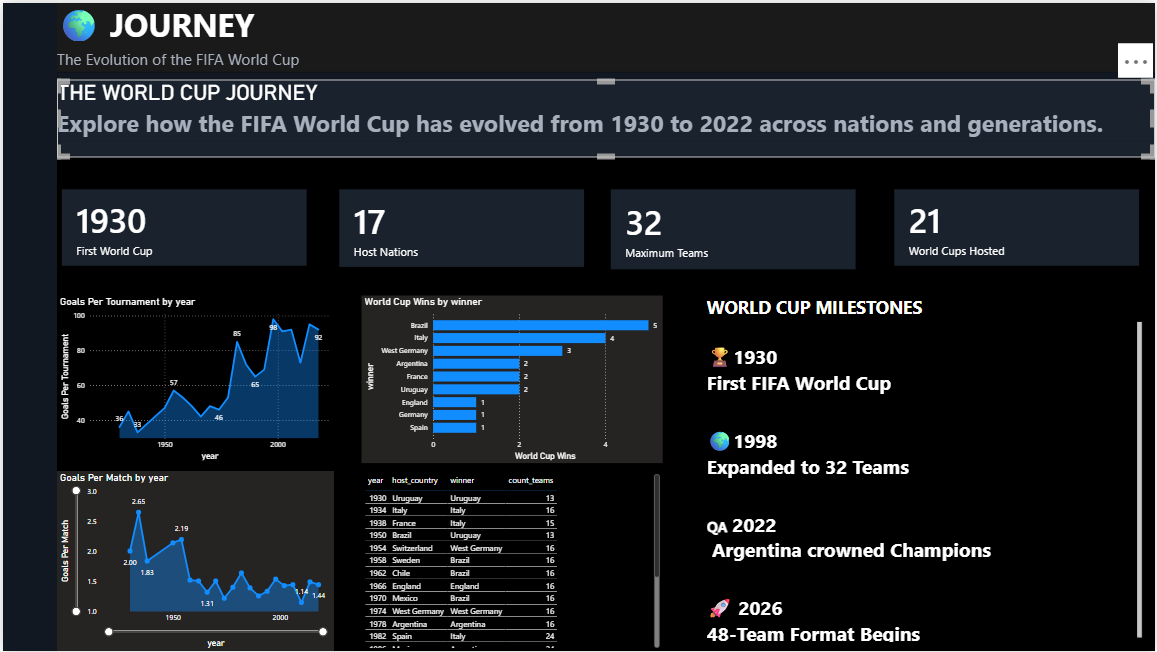

This screenshot's page, from the dashboard's own definition file:
{"tool":"powerbi","page":{"name":"JOURNEY","canvas":[1920,1080],"ordinal":1},"visuals":[{"type":"shape","title":"🌍 JOURNEY","box":[90,0,1830,127.5],"z":0},{"type":"shape","title":"THE WORLD CUP JOURNEY","box":[90.9,127.2,1828.4,129.5],"z":1000},{"type":"cardVisual","fields":{"Data":["measures (2).First World Cup"]},"box":[90.9,302.1,424.7,143.1],"z":2000},{"type":"shape","box":[0,0,90,1080],"z":3000},{"type":"cardVisual","fields":{"Data":["measures (2).Host Nations"]},"box":[551.9,302.1,424.7,145.4],"z":4000},{"type":"cardVisual","fields":{"Data":["measures (2).Maximum Teams"]},"box":[1006.2,302.1,424.7,149.9],"z":5000},{"type":"cardVisual","fields":{"Data":["measures (2).Host Stadiums"]},"box":[1478.6,302.1,424.7,143.1],"z":6000},{"type":"lineChart","fields":{"Category":["Dim_tournaments.year"],"Y":["measures (2).Goals Per Tournament"]},"box":[90.9,488.3,461.1,279.4],"z":7000},{"type":"textbox","title":"WORLD CUP MILESTONES","box":[1167.5,488.3,735.9,581.5],"z":8000},{"type":"clusteredBarChart","fields":{"Category":["Dim_tournaments.winner"],"Y":["measures (2).World Cup Wins"]},"box":[597.4,488.3,502,279.4],"z":9000},{"type":"areaChart","fields":{"Category":["Dim_tournaments.year"],"Y":["measures (2).Goals Per Match"]},"box":[90.9,779.1,461.1,299.8],"z":10000},{"type":"tableEx","fields":{"Values":["Dim_tournaments.year","Dim_tournaments.host_country","Dim_tournaments.winner","Dim_tournaments.count_teams"]},"box":[597.4,779.1,502,299.8],"z":11000}]}

Visuals, with their boxes in screenshot pixels (x1, y1, x2, y2), scaled from the page's 1920x1080 canvas onto the 1157x652 screenshot:
"🌍 JOURNEY" shape: box(54, 0, 1156, 77)
"THE WORLD CUP JOURNEY" shape: box(55, 77, 1156, 155)
cardVisual - measures (2).First World Cup: box(55, 182, 311, 269)
shape: box(0, 0, 54, 651)
cardVisual - measures (2).Host Nations: box(333, 182, 589, 270)
cardVisual - measures (2).Maximum Teams: box(606, 182, 862, 273)
cardVisual - measures (2).Host Stadiums: box(891, 182, 1147, 269)
lineChart - Dim_tournaments.year x measures (2).Goals Per Tournament: box(55, 295, 333, 463)
"WORLD CUP MILESTONES" textbox: box(704, 295, 1147, 646)
clusteredBarChart - Dim_tournaments.winner x measures (2).World Cup Wins: box(360, 295, 663, 463)
areaChart - Dim_tournaments.year x measures (2).Goals Per Match: box(55, 470, 333, 651)
tableEx - Dim_tournaments.year x Dim_tournaments.host_country: box(360, 470, 663, 651)
